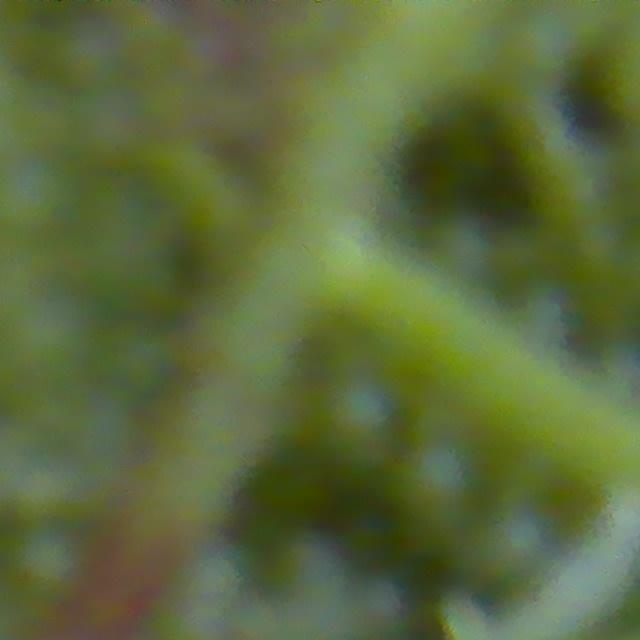SeaGrape: (396, 434, 483, 527), (321, 380, 398, 478), (8, 523, 91, 605), (469, 519, 551, 592)
